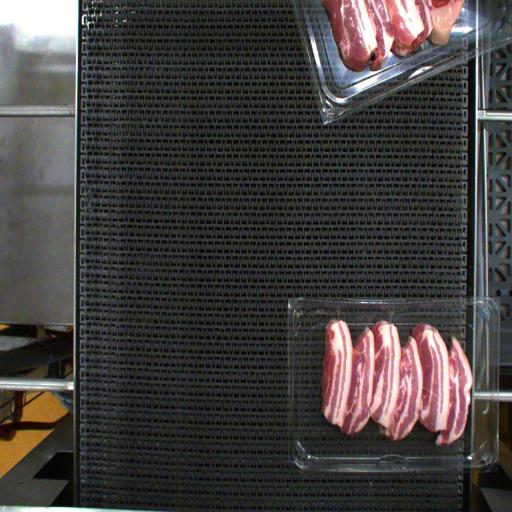packaging-error: (334, 302, 343, 320)
